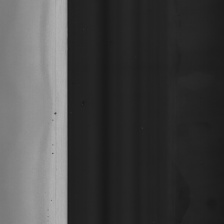oil_spot: (52, 101, 58, 123), (49, 148, 57, 159)
